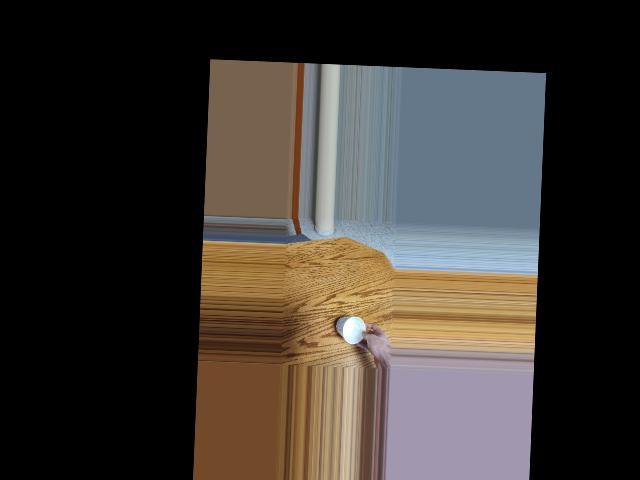cotage: (338, 313, 370, 344)
